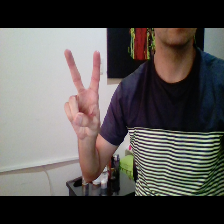KP: (58, 44, 111, 141)
